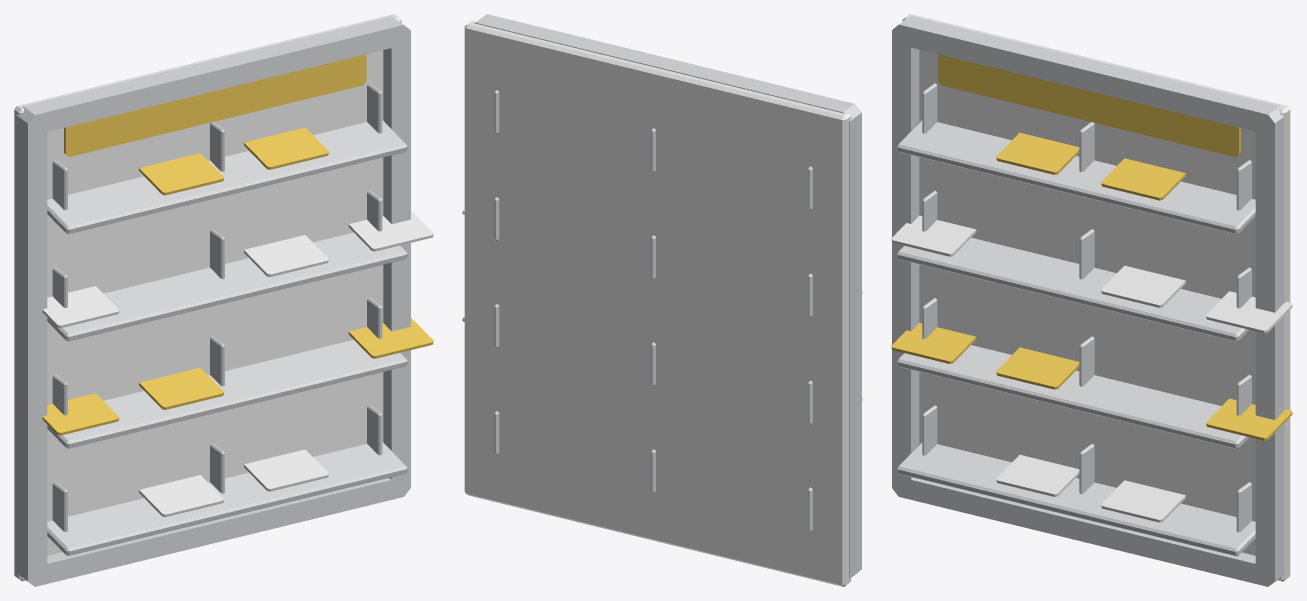
File: laundrette-and-cleaning-ticket-rack-f578850c__25547.glb
The picture shows the model from 3 angles, left to right: view 1: azimuth 30°, elevation 25°; view 2: azimuth 150°, elevation 25°; view 3: azimuth 330°, elevation 25°; orthographic projection.
Visible parts, largest first — view 1: ticket-rack; view 2: ticket-rack; view 3: ticket-rack.
Part boxes in pixels (left/top/right/bottom): ticket-rack: left=14, top=14, right=433, bottom=586; ticket-rack: left=462, top=14, right=862, bottom=586; ticket-rack: left=891, top=14, right=1292, bottom=586.
Size of the model in its own units: 0.5712 by 0.6612 by 0.091.
